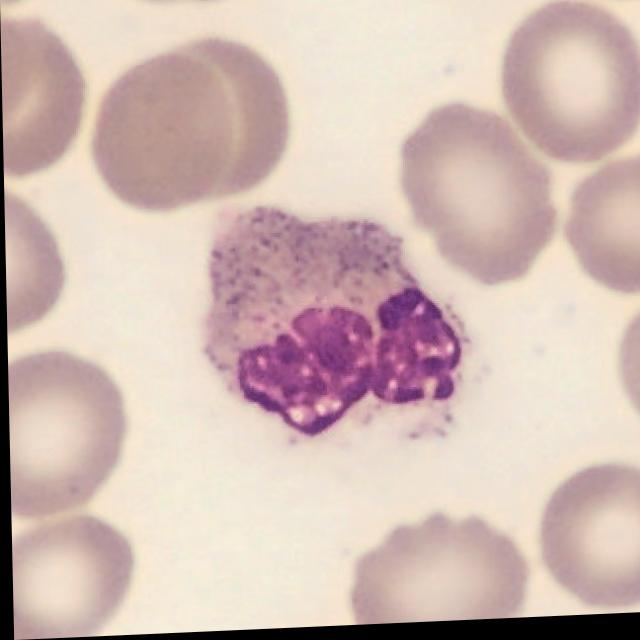Neutrofilo segmentado: (206, 212, 463, 446)
